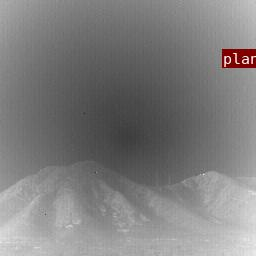plane: (222, 49, 239, 66)
